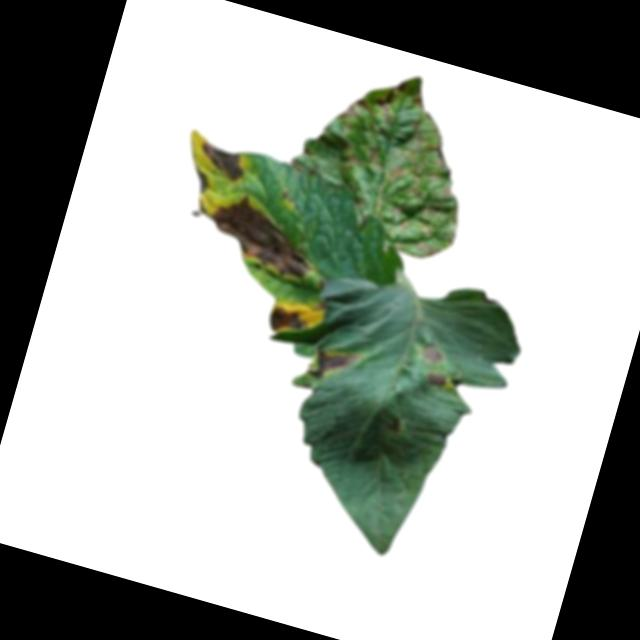Early_blight: (198, 186, 328, 286), (303, 340, 361, 390), (192, 140, 249, 184), (259, 300, 309, 341), (371, 77, 407, 129), (333, 93, 374, 131), (420, 369, 449, 395), (186, 166, 210, 197), (420, 342, 446, 368)
